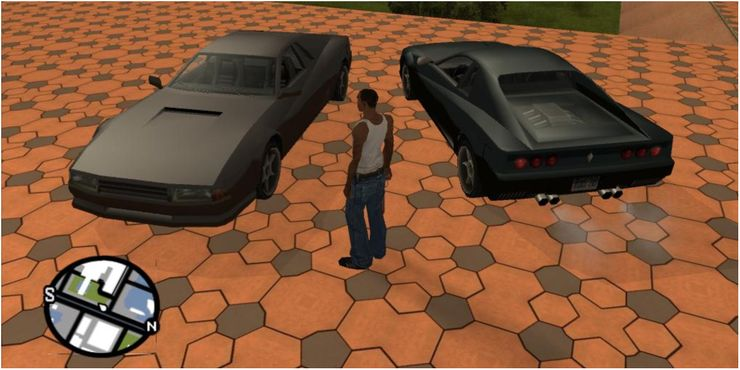car: (67, 24, 357, 217), (402, 39, 676, 203)
person: (335, 89, 400, 269)
